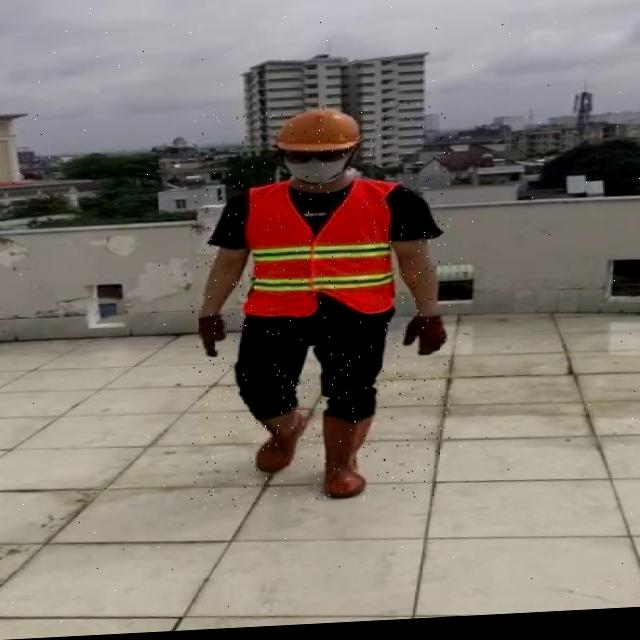Gloves: (403, 317, 448, 361), (199, 315, 227, 359)
Helmet: (275, 109, 362, 190)
Safety-Boot: (323, 411, 374, 503), (256, 410, 309, 476)
Safety-Vest: (243, 177, 402, 324)
